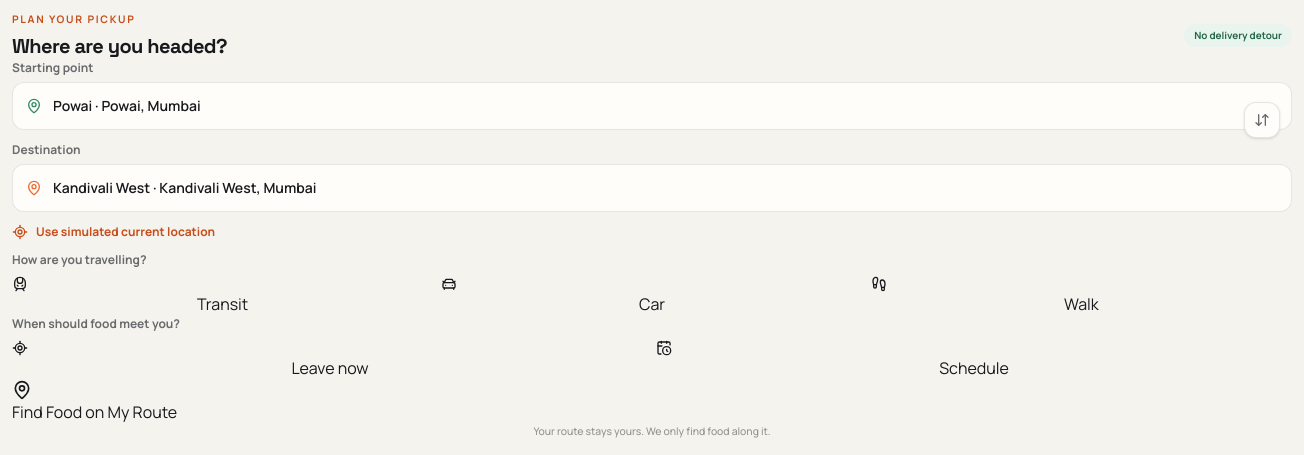
LocationSearchForm › starts with the default route and swaps its locations
The width and height of the screenshot is (1304, 455).
expect the dropdown labelled "Starting point" shows "Powai · Powai, Mumbai": met, box [12,82,1292,130]
expect the dropdown labelled "Destination" shows "Kandivali West · Kandivali West, Mumbai": met, box [12,164,1292,212]
What coordinates should you click on to do the following:
click the button named "Swap starting point and destination"
I would click on:
 (1262, 120)
Its box is [1244,102,1280,138].
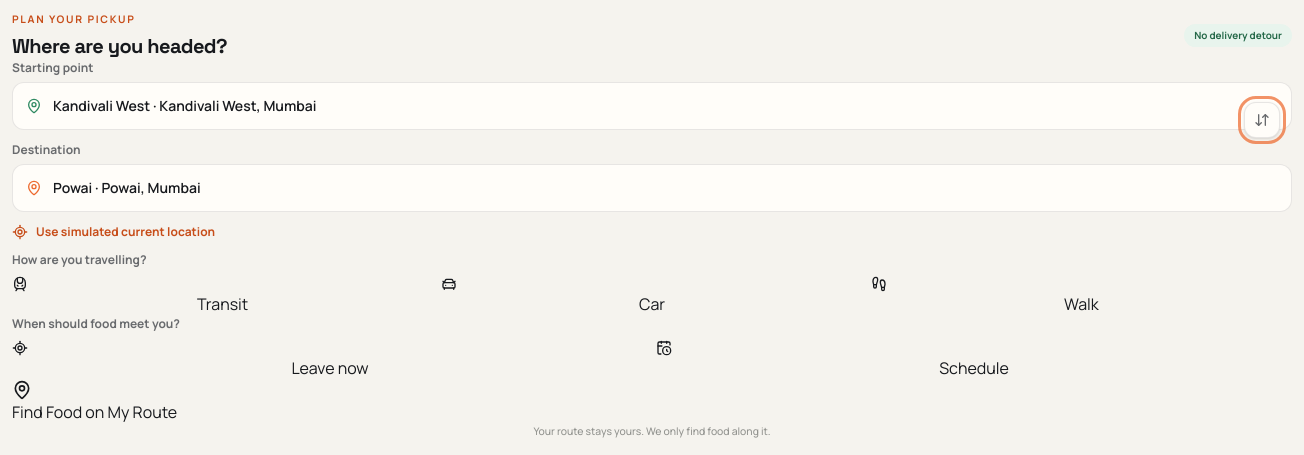
expect the dropdown labelled "Starting point" shows "Kandivali West · Kandivali West, Mumbai": met, box [12,82,1292,130]
expect the dropdown labelled "Destination" shows "Powai · Powai, Mumbai": met, box [12,164,1292,212]
